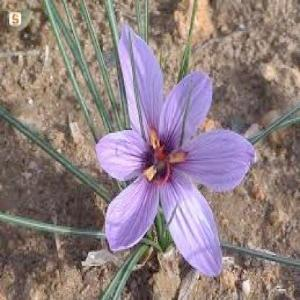Saffron: (94, 24, 260, 279)
